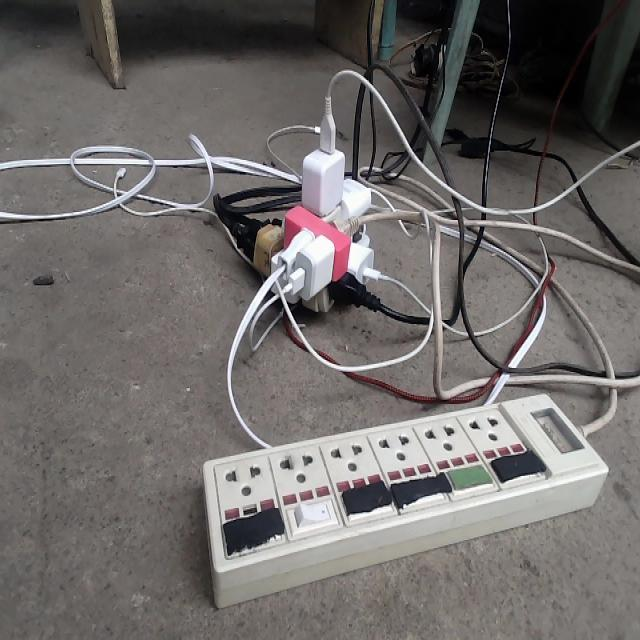-: (231, 137, 393, 315)
